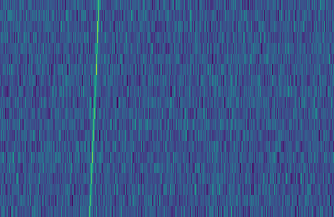signal: (82, 0, 101, 217)
